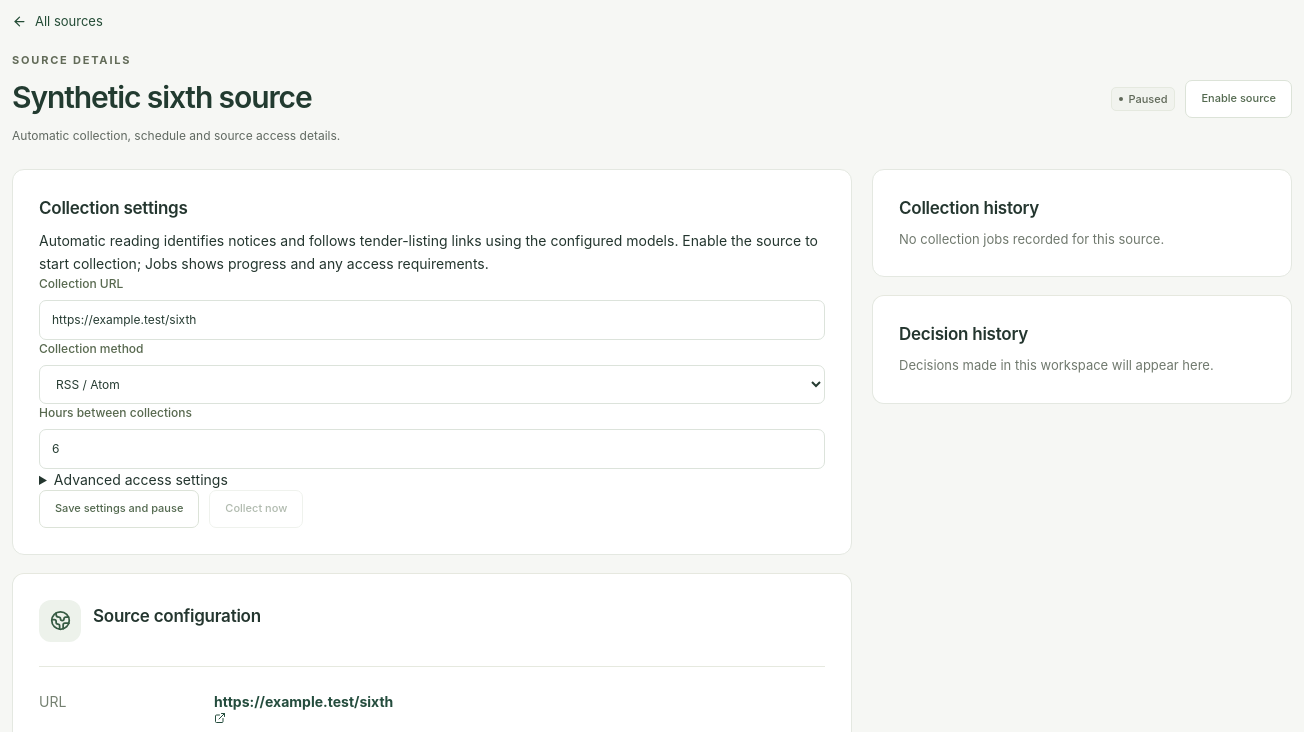
connected screens › enables a sixth source from details without a client-side source ceiling
The width and height of the screenshot is (1304, 732).
Click the button "Enable source". click: (1239, 99)
box: [1186,80,1292,118]
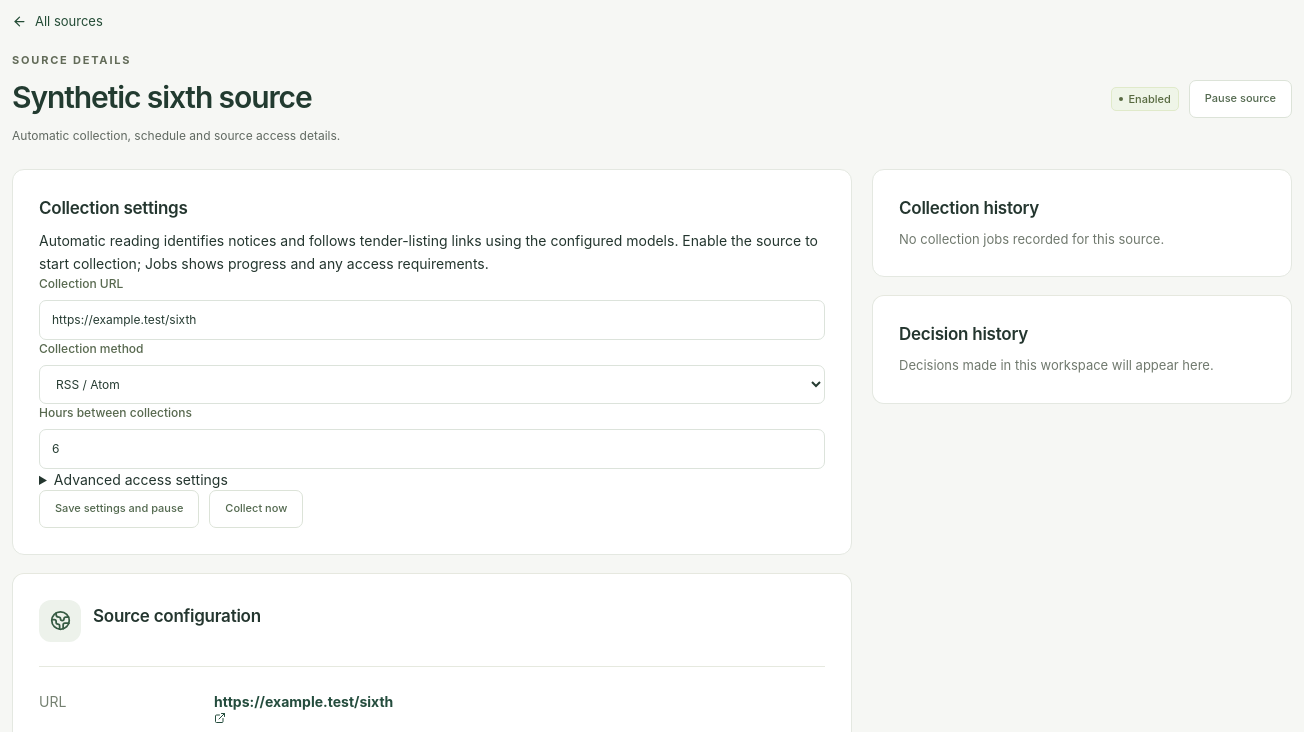
Check: the button "Pause source" is shown, box [1189,80,1292,118]
